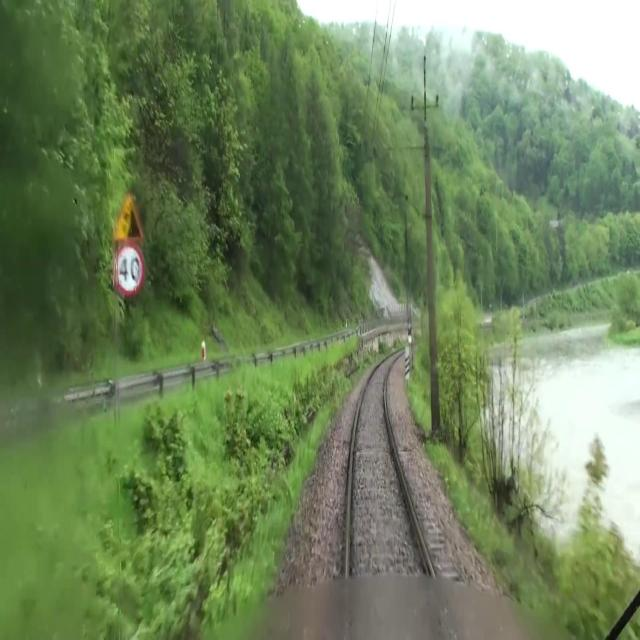rail-track: (349, 357, 450, 639)
